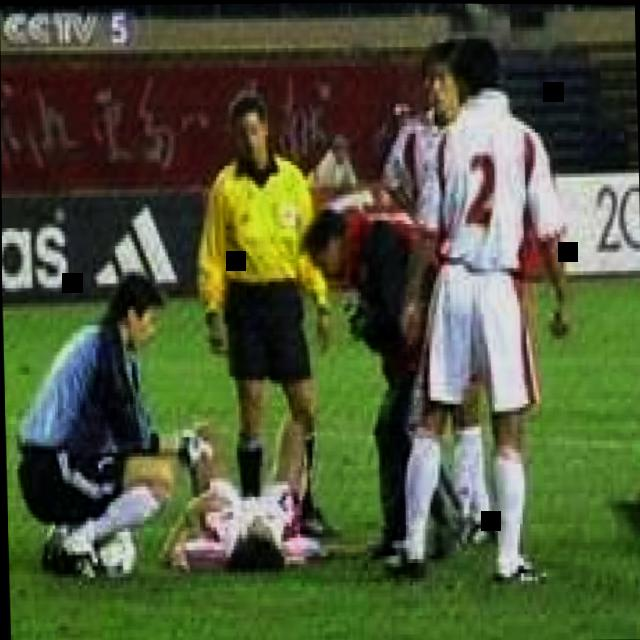Fall-Detected: (154, 400, 327, 569)
